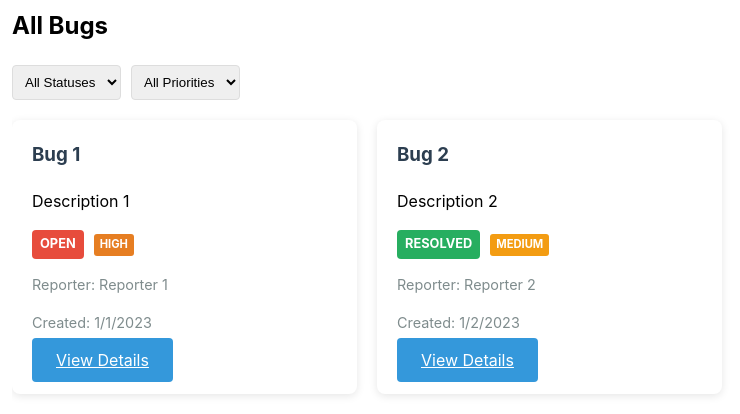
Test case: BugList Component Integration › filters bugs by status
Expected: the heading "Bug 1" is shown, top-left (32, 143), bottom-right (80, 166)
Select "Open" in the 1st dropdown showing "All Statuses" at (66, 83), box top-left (12, 65), bottom-right (121, 100)
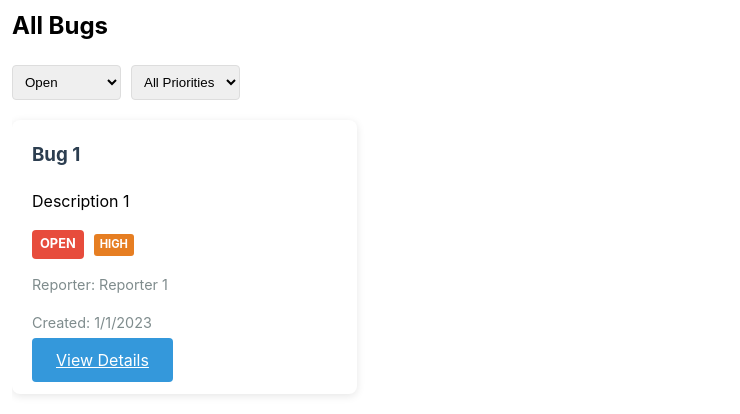
Expected: the heading "Bug 1" is shown, top-left (32, 143), bottom-right (80, 166)
Result: the heading "Bug 2" is gone
